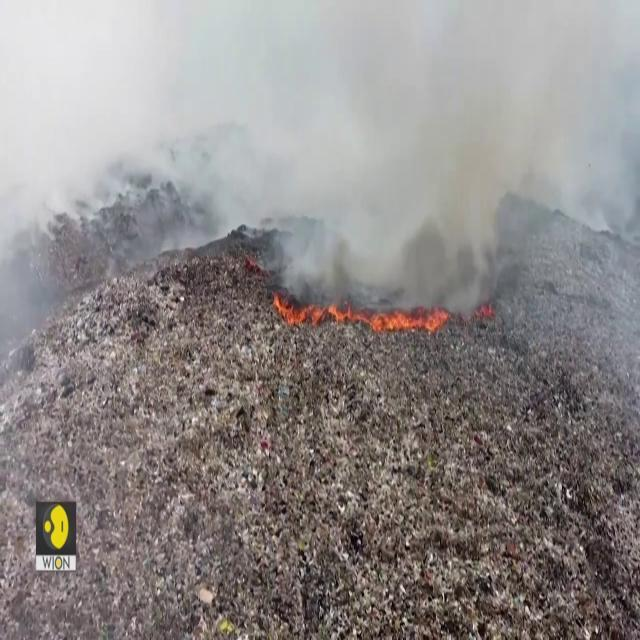Fire: (270, 287, 356, 333), (373, 296, 453, 342)
Smoke: (0, 0, 640, 338)
